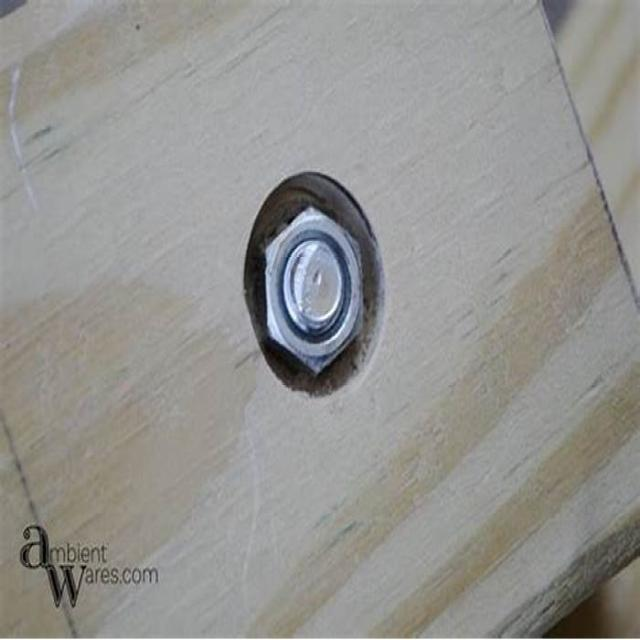bolt nut: (260, 204, 364, 378)
